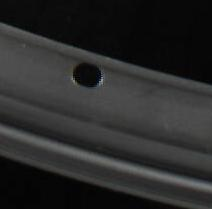holes: (71, 61, 104, 89)
